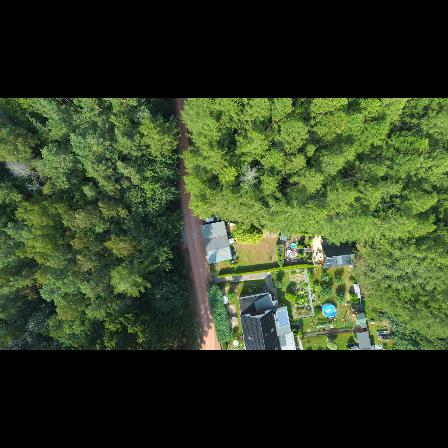Dead: (236, 165, 263, 186), (4, 159, 33, 176), (24, 180, 43, 191)
